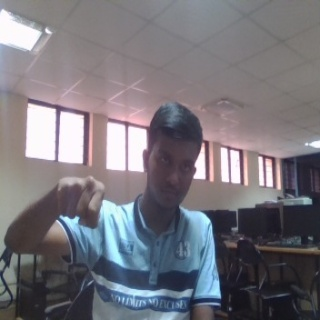Face: (142, 102, 201, 211)
Yes: (53, 171, 108, 231)
